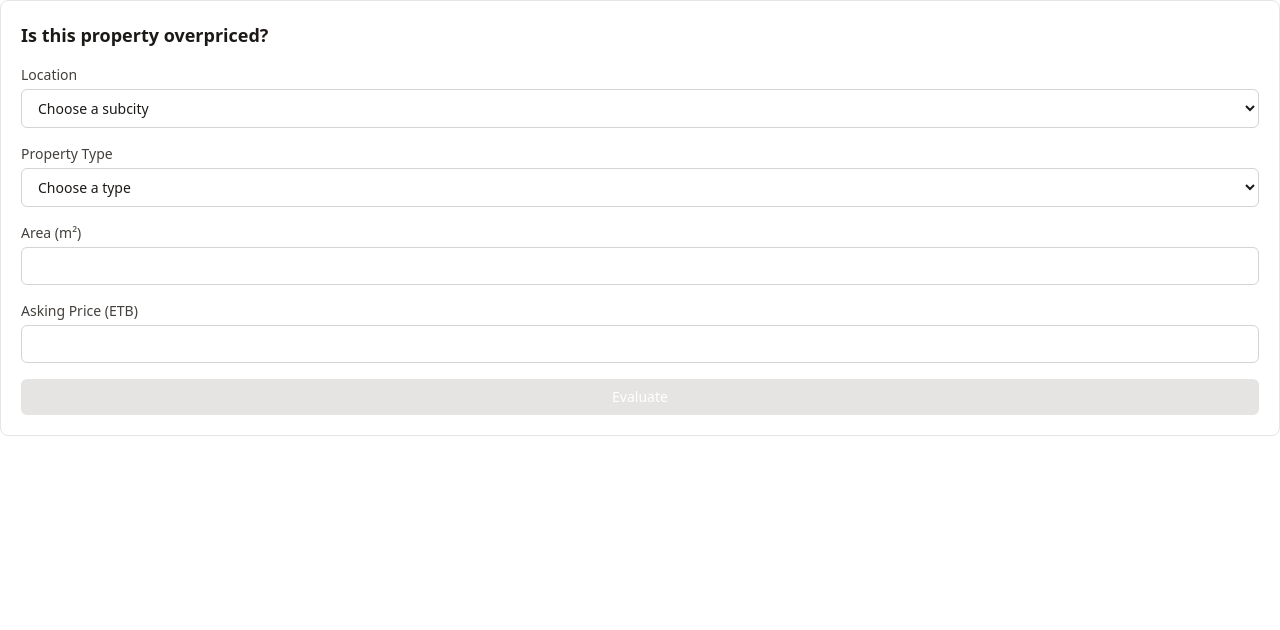
Scenario: OverpricedEvaluatorWidget › renders the OVERPRICED state with red/danger styling and the percentage differential
Select "Bole" in the dropdown labelled "Location": x=640, y=108 [21,89,1259,128]
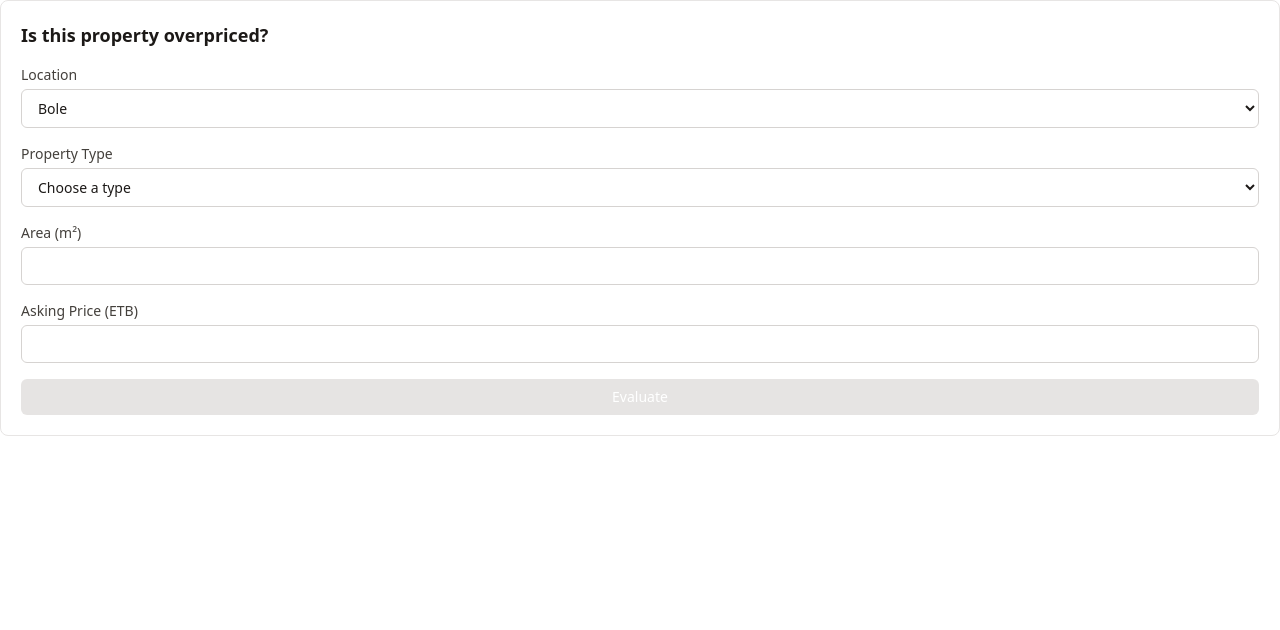
Select "Apartment" in the dropdown labelled "Property Type": x=640, y=188 [21,168,1259,207]
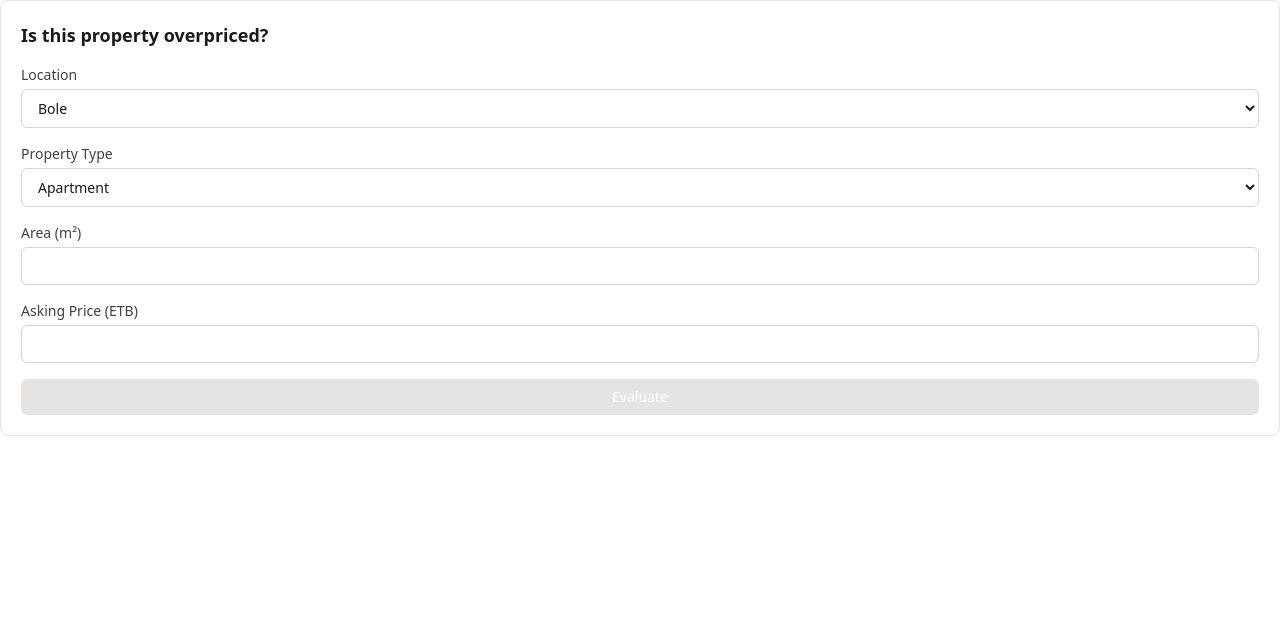
In the number field labelled "Area (m²)": x=640, y=266 [21,247,1259,285], type "100"
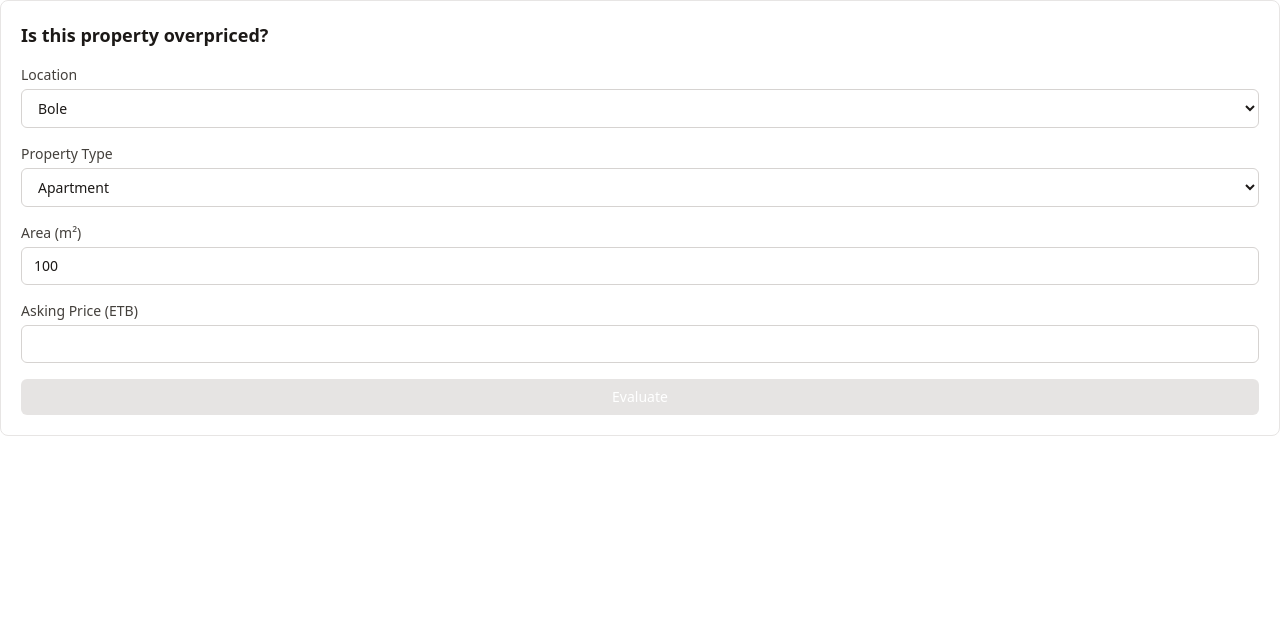
In the number field labelled "Asking Price (ETB)": x=640, y=344 [21,325,1259,363], type "5000000"
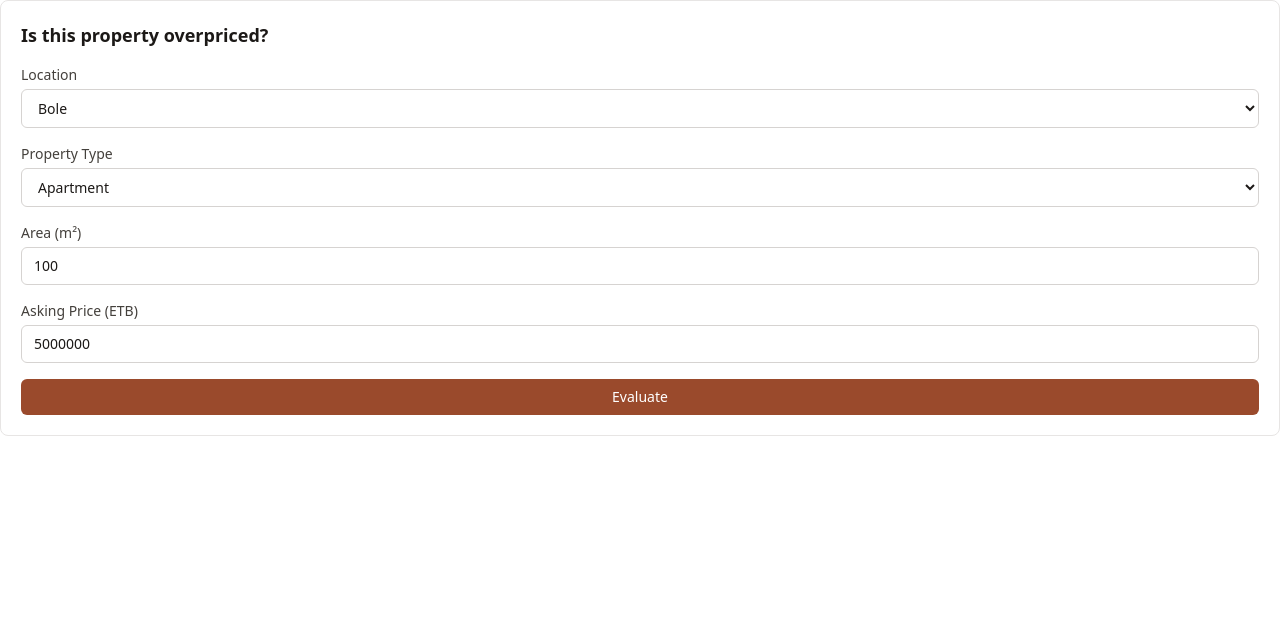
Click the button "Evaluate": x=640, y=397 [21,379,1259,415]
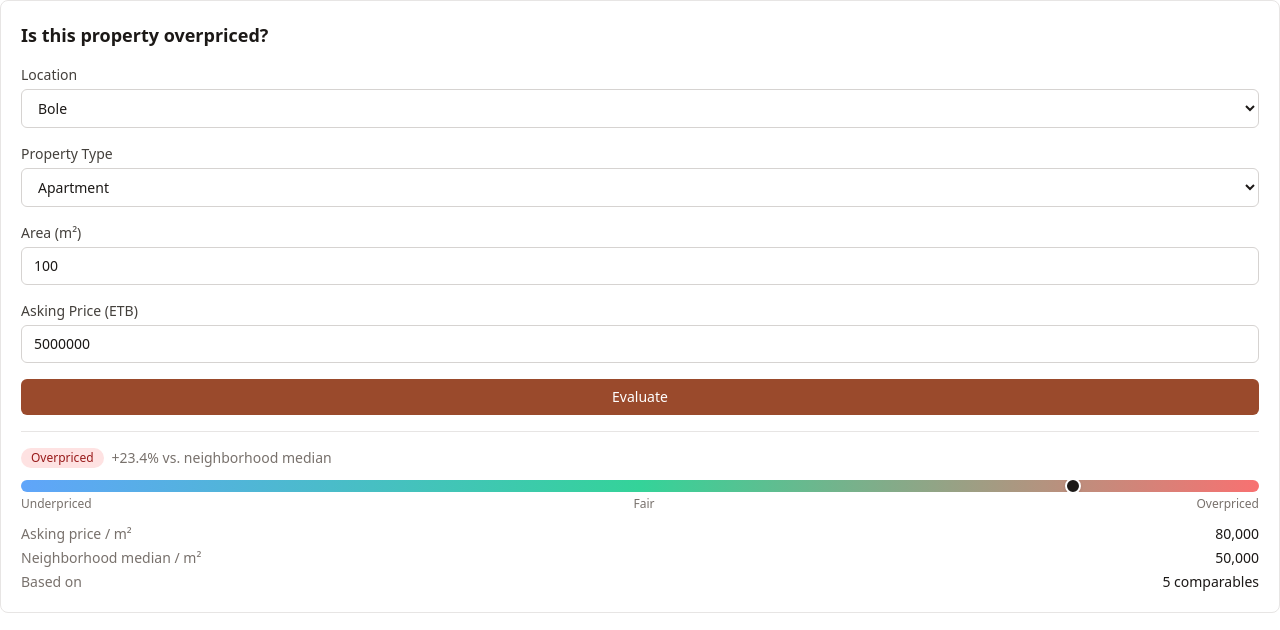
Check: the text "Overpriced" next to "23.4" is shown, box [31,449,94,466]
Check: the text "+23.4% vs. neighborhood median" is shown, box [112,448,332,468]
Check: the element with test id "valuation-result" is shown, box [21,431,1259,592]
